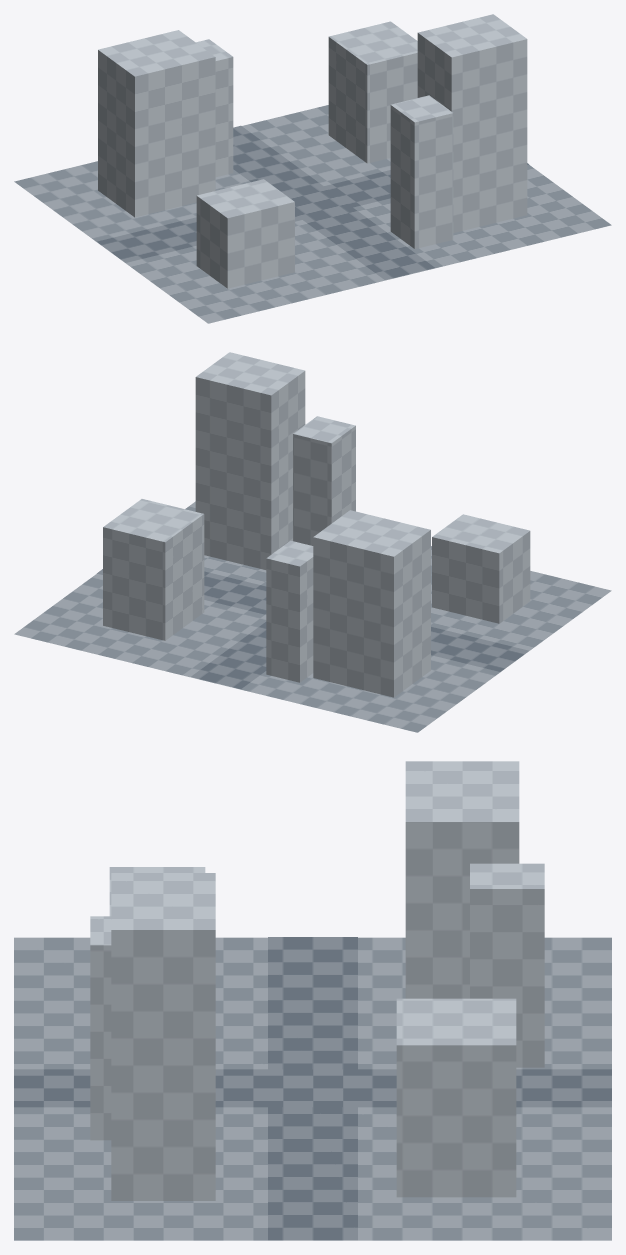
The model's file is result.glb.
The picture shows the model from 3 angles, top to bottom: view 1: azimuth 30°, elevation 25°; view 2: azimuth 150°, elevation 25°; view 3: azimuth 270°, elevation 25°; orthographic projection. The views are drawn at different scales.
Parts seen in each view (by area): view 1: Viewer baked procedural surfaces; view 2: Viewer baked procedural surfaces; view 3: Viewer baked procedural surfaces.
Boxes of the visible parts, <box> form: Viewer baked procedural surfaces: <box>14,14,611,323</box>; Viewer baked procedural surfaces: <box>14,352,611,732</box>; Viewer baked procedural surfaces: <box>14,761,611,1240</box>.
Size of the model in its own units: 24 by 10 by 20.
3 materials, 3 textured.
